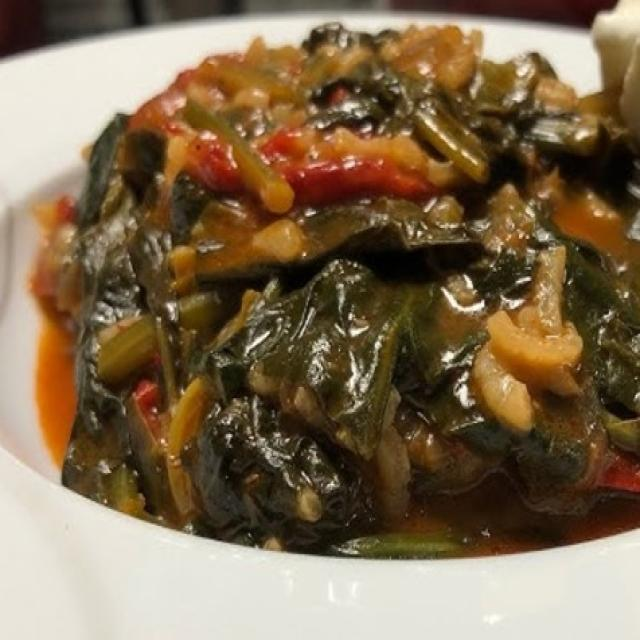ana_yemek: (34, 11, 638, 556)
